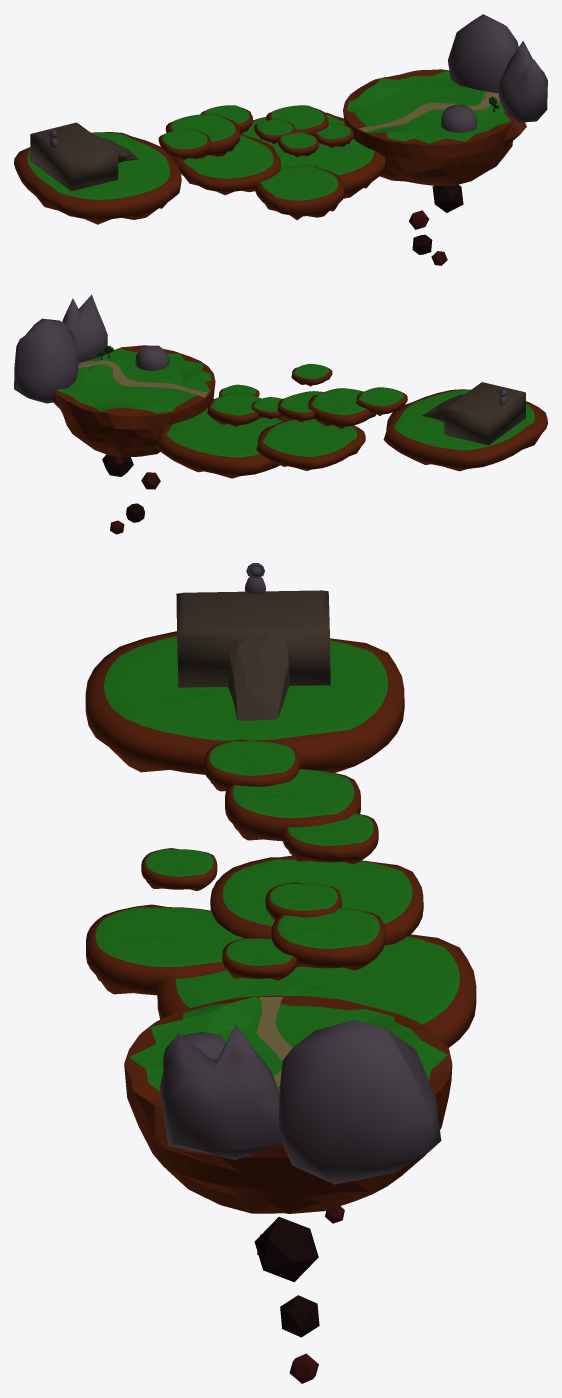
Rendered from Island.obj.
The picture shows the model from 3 angles, top to bottom: view 1: azimuth 30°, elevation 25°; view 2: azimuth 150°, elevation 25°; view 3: azimuth 270°, elevation 25°; orthographic projection. The views are drawn at different scales.
Visible parts, largest first — view 1: island, FirstIsland.010, rock, 立方体, FirstIsland.007, FirstIsland.009, FirstIsland.008, FirstIsland.005, FirstIsland.006, FirstIsland, ICO球, FirstIsland.003 (+6 smaller); view 2: island, FirstIsland.010, rock, FirstIsland.008, FirstIsland.007, 立方体, FirstIsland.005, FirstIsland, FirstIsland.006, FirstIsland.004, ICO球, FirstIsland.003 (+5 smaller); view 3: rock, FirstIsland.010, island, FirstIsland.008, 立方体, FirstIsland.007, FirstIsland.009, FirstIsland.005, FirstIsland, ICO球.004, FirstIsland.006, FirstIsland.004 (+5 smaller).
Part boxes in pixels (x1=…): island: x1=343, y1=69, x2=526, y2=185; FirstIsland.010: x1=14, y1=132, x2=181, y2=224; rock: x1=448, y1=14, x2=547, y2=122; 立方体: x1=30, y1=122, x2=118, y2=191; FirstIsland.007: x1=172, y1=134, x2=280, y2=195; FirstIsland.009: x1=254, y1=165, x2=344, y2=220; FirstIsland.008: x1=242, y1=112, x2=385, y2=198; FirstIsland.005: x1=165, y1=114, x2=240, y2=158; FirstIsland.006: x1=158, y1=129, x2=211, y2=160; FirstIsland: x1=266, y1=105, x2=328, y2=135; ICO球: x1=441, y1=104, x2=477, y2=132; FirstIsland.003: x1=277, y1=132, x2=318, y2=157; island: x1=52, y1=345, x2=215, y2=457; FirstIsland.010: x1=383, y1=389, x2=547, y2=471; rock: x1=14, y1=294, x2=107, y2=403; FirstIsland.008: x1=156, y1=408, x2=282, y2=478; FirstIsland.007: x1=256, y1=419, x2=365, y2=470; 立方体: x1=444, y1=382, x2=525, y2=445; FirstIsland.005: x1=308, y1=388, x2=375, y2=428; FirstIsland: x1=207, y1=393, x2=261, y2=426; FirstIsland.006: x1=356, y1=387, x2=407, y2=415; FirstIsland.004: x1=277, y1=393, x2=314, y2=422; ICO球: x1=135, y1=345, x2=169, y2=370; FirstIsland.003: x1=291, y1=364, x2=332, y2=386; rock: x1=160, y1=1020, x2=441, y2=1184; FirstIsland.010: x1=85, y1=631, x2=404, y2=774; island: x1=124, y1=995, x2=452, y2=1213; FirstIsland.008: x1=157, y1=934, x2=476, y2=1047; 立方体: x1=176, y1=590, x2=330, y2=687; FirstIsland.007: x1=210, y1=855, x2=423, y2=945; FirstIsland.009: x1=86, y1=904, x2=243, y2=995; FirstIsland.005: x1=225, y1=769, x2=360, y2=841; FirstIsland: x1=271, y1=908, x2=385, y2=970; ICO球.004: x1=228, y1=633, x2=289, y2=720; FirstIsland.006: x1=204, y1=739, x2=299, y2=791; FirstIsland.004: x1=282, y1=813, x2=378, y2=864.
Bounding box in the file's own units: 986 × 447 × 348.
